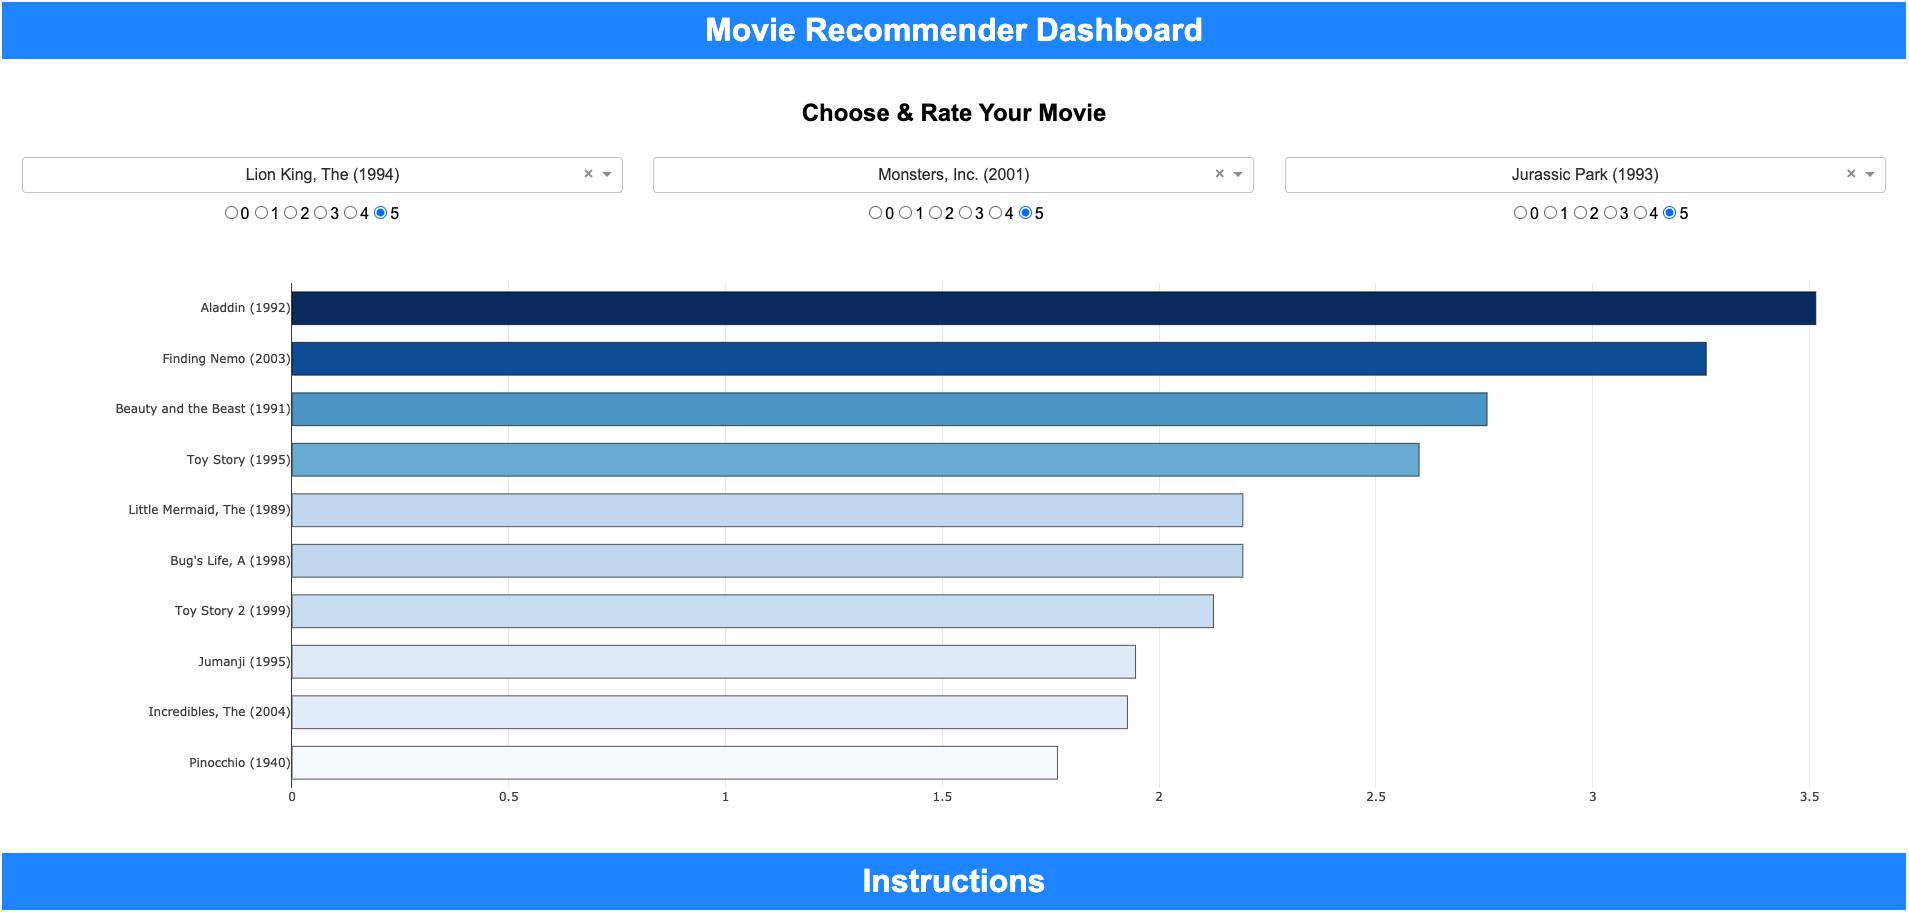

This screenshot's page, from the dashboard's own definition file:
{"tool":"tableau","page":{"name":"Dashboard","canvas":[1283,800],"ordinal":0},"visuals":[{"type":"worksheet","box":[0,0,1283,800]},{"type":"worksheet","param":"horz","box":[0,0,1283,800]},{"type":"worksheet","box":[0,0,1283,800]},{"type":"worksheet","box":[0,0,1283,86]},{"type":"worksheet","box":[1127,33,107,19]},{"type":"worksheet","param":"[Parameters].[Parameter 1]","box":[1077,61,201,29]},{"type":"worksheet","param":"/Users/joseppbenvenuto/Desktop/Projects/Portfolio_Projects/Movie_Rec/Images/Movi","box":[0,86,1283,714]},{"type":"worksheet","title":"Sheet 2","mark":"Bar","rows":["Recommendations","Calculation_3522026021463449602","Calculation_3851844325628809222"],"cols":["Calculation_3522026021466484739"],"box":[4,86,1073,578]},{"type":"worksheet","param":"[Parameters].[Parameter 2]","box":[1077,93,201,30]},{"type":"worksheet","param":"[Parameters].[Parameter 3]","box":[1077,126,200,30]},{"type":"worksheet","param":"[Parameters].[Parameter 6]","box":[1077,159,200,29]},{"type":"worksheet","param":"[Parameters].[Parameter 4]","box":[1077,191,199,30]},{"type":"worksheet","param":"[Parameters].[Rating1 (copy)_2603362065932128257]","box":[1077,224,198,30]},{"type":"worksheet","param":"[Parameters].[Parameter 5]","box":[1076,258,199,29]},{"type":"worksheet","param":"[Parameters].[Rating1 (copy) (copy)_2603362065932136450]","box":[1077,290,199,30]},{"type":"worksheet","title":"Sheet 1","mark":"Automatic","box":[1124,323,111,75]},{"type":"worksheet","box":[1079,394,201,277]}]}

Visuals, with their boxes on the page's 1283x800 design canvas (x1, y1, x2, y2). These are canvas units, not pixel positions in the 1909x912 screenshot, which may show the page scaled, cropped or inside an application window:
worksheet: crop(0, 0, 1283, 800)
worksheet: crop(0, 0, 1283, 800)
worksheet: crop(0, 0, 1283, 800)
worksheet: crop(0, 0, 1283, 86)
worksheet: crop(1127, 33, 1234, 52)
worksheet: crop(1077, 61, 1278, 90)
worksheet: crop(0, 86, 1283, 800)
"Sheet 2" worksheet (Bar marks): crop(4, 86, 1077, 664)
worksheet: crop(1077, 93, 1278, 123)
worksheet: crop(1077, 126, 1277, 156)
worksheet: crop(1077, 159, 1277, 188)
worksheet: crop(1077, 191, 1276, 221)
worksheet: crop(1077, 224, 1275, 254)
worksheet: crop(1076, 258, 1275, 287)
worksheet: crop(1077, 290, 1276, 320)
"Sheet 1" worksheet: crop(1124, 323, 1235, 398)
worksheet: crop(1079, 394, 1280, 671)
